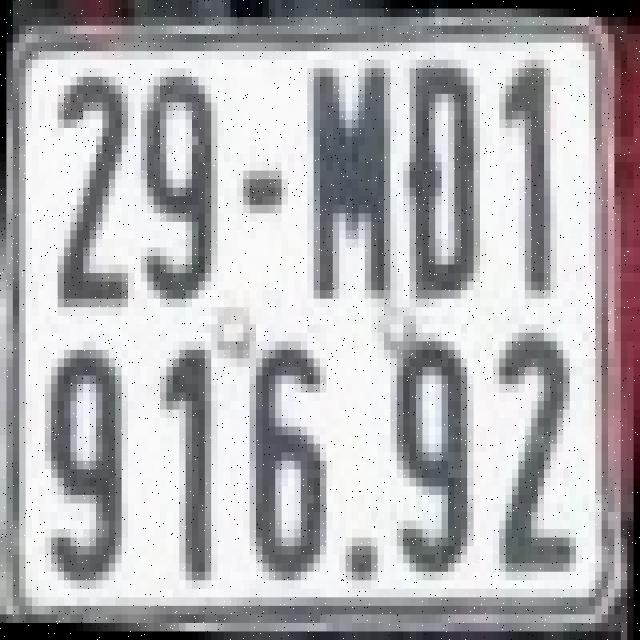1: (160, 346, 218, 576), (502, 60, 560, 290)
2: (496, 329, 579, 576), (55, 72, 132, 303)
6: (250, 342, 326, 580)
9: (391, 337, 474, 576), (140, 72, 218, 303), (48, 350, 125, 580)
D: (403, 59, 480, 298)
M: (304, 59, 394, 298)
